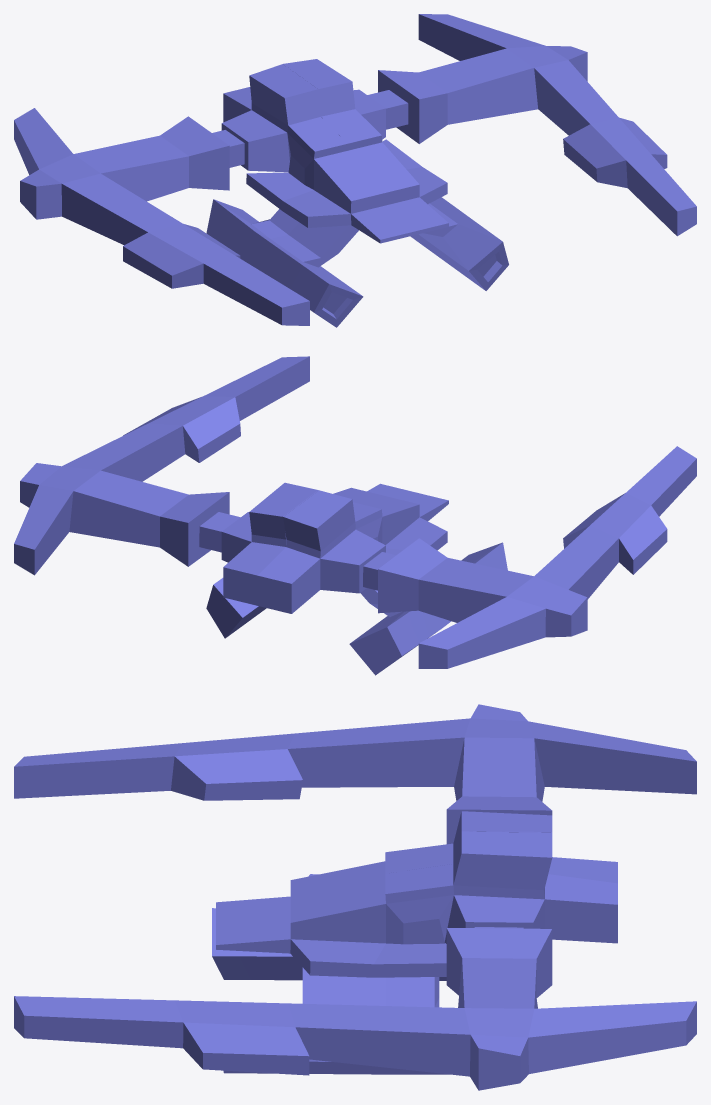
The model's file is OlinDestoyer.fbx.
3 views of the same model, one above another, from view 1: azimuth 30°, elevation 25°; view 2: azimuth 150°, elevation 25°; view 3: azimuth 270°, elevation 25° (orthographic). The views are drawn at different scales.
Visible parts, largest first — view 1: Cube.001; view 2: Cube.001; view 3: Cube.001.
Boxes of the visible parts, <box> form: Cube.001: <box>14,14,696,327</box>; Cube.001: <box>14,356,696,675</box>; Cube.001: <box>14,704,696,1090</box>.
Size of the model in its own units: 1607 by 428 by 1349.
